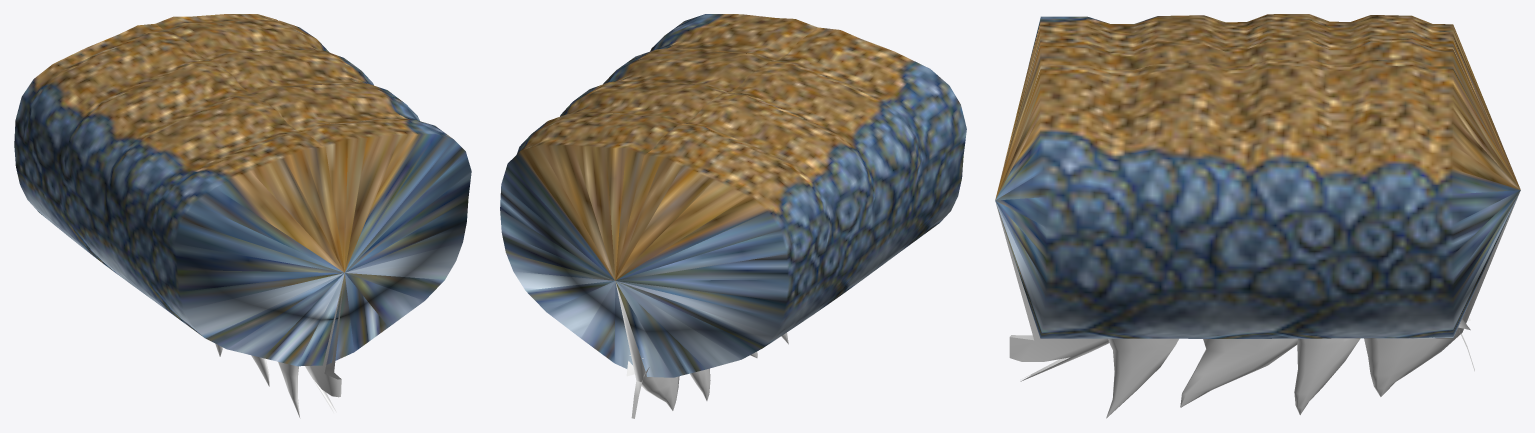
Rendered from dragon_body.obj.
The picture shows the model from 3 angles, left to right: view 1: azimuth 30°, elevation 25°; view 2: azimuth 150°, elevation 25°; view 3: azimuth 270°, elevation 25°; orthographic projection. The views are drawn at different scales.
Visible parts, largest first — view 1: Eastern_Dragon_2.002; view 2: Eastern_Dragon_2.002; view 3: Eastern_Dragon_2.002.
Boxes of the visible parts, x1,y1,x2,y2 form: Eastern_Dragon_2.002: (14, 14, 471, 418); Eastern_Dragon_2.002: (500, 14, 966, 418); Eastern_Dragon_2.002: (995, 14, 1520, 418).
Size of the model in its own units: 0.2158 by 0.2081 by 0.2736.
